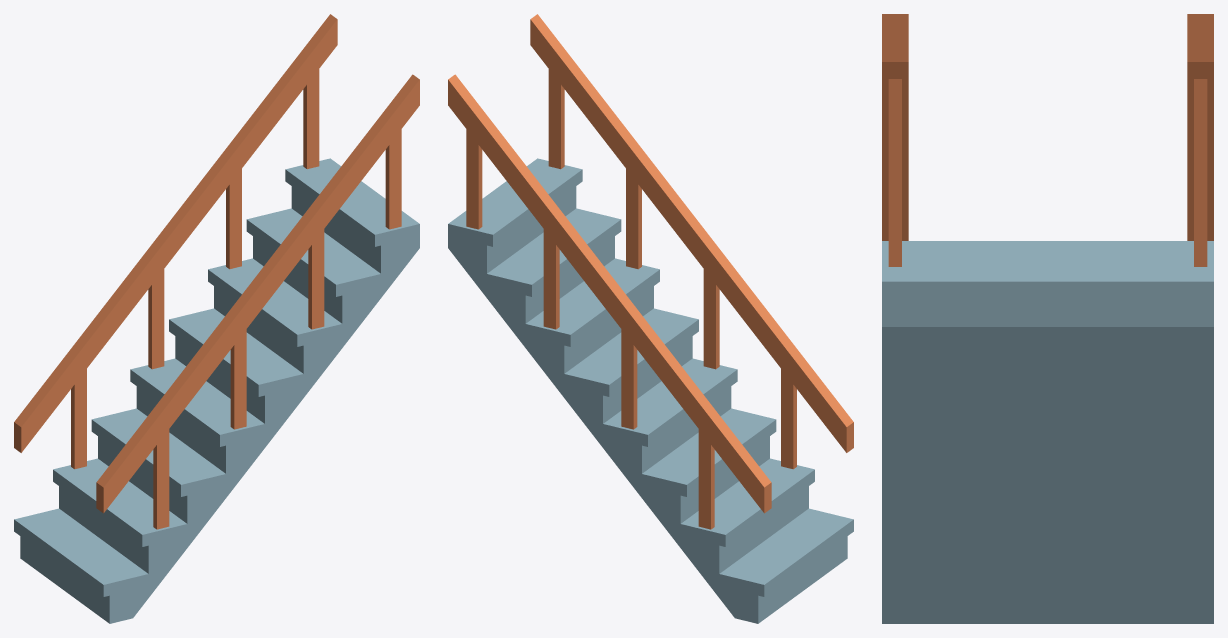
Rendered from stairsStoneHandrail.fbx.
The picture shows the model from 3 angles, left to right: view 1: azimuth 30°, elevation 25°; view 2: azimuth 150°, elevation 25°; view 3: azimuth 270°, elevation 25°; orthographic projection. The views are drawn at different scales.
Visible parts, largest first — view 1: stairsStoneHandrail, rail; view 2: stairsStoneHandrail, rail; view 3: stairsStoneHandrail, rail.
Part boxes in pixels (<box>): stairsStoneHandrail: <box>14,158,419,623</box>; rail: <box>14,14,419,529</box>; stairsStoneHandrail: <box>448,158,853,623</box>; rail: <box>448,14,853,529</box>; stairsStoneHandrail: <box>882,241,1213,623</box>; rail: <box>882,14,1213,266</box>.
Size of the model in its own units: 10.2 by 14.45 by 5.
